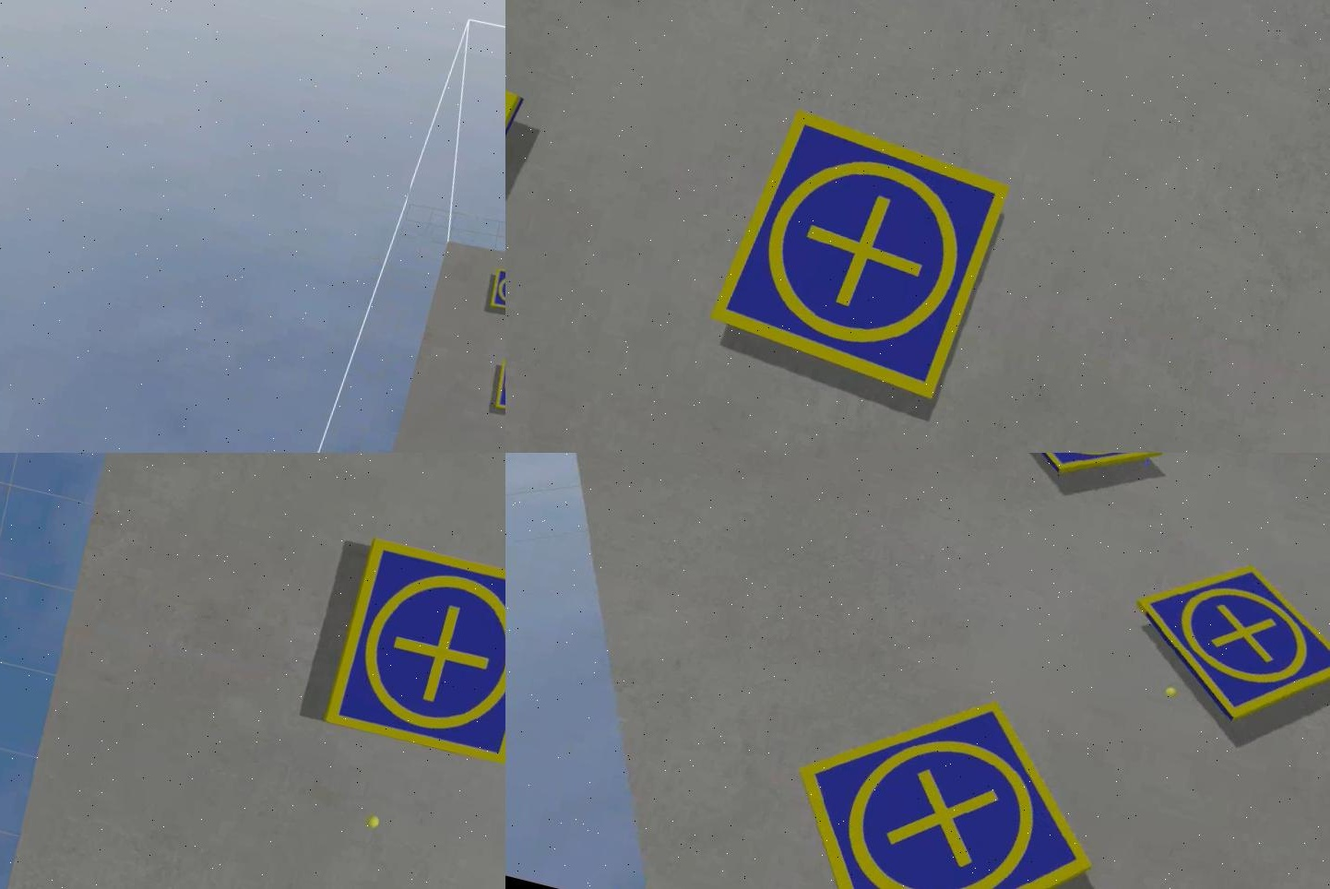small_base: (699, 102, 1015, 409), (756, 658, 1123, 889), (315, 531, 505, 776), (1111, 539, 1328, 746), (986, 454, 1173, 499), (487, 352, 505, 424), (484, 262, 505, 321)
